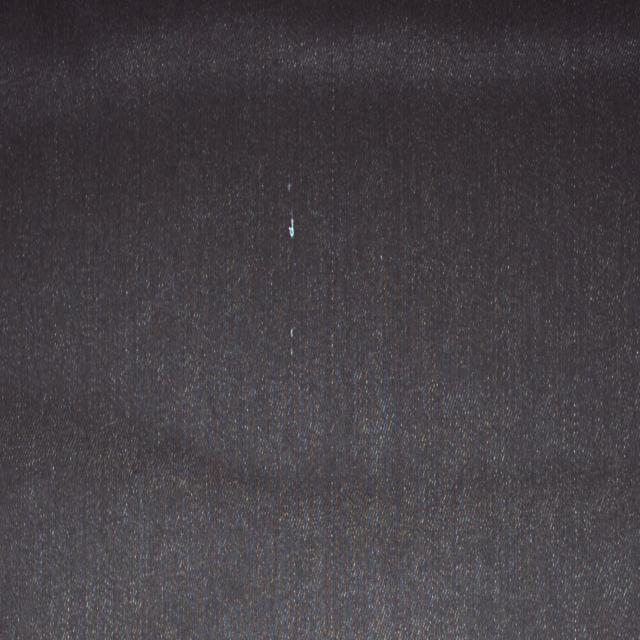Knot: (288, 210, 295, 238)
